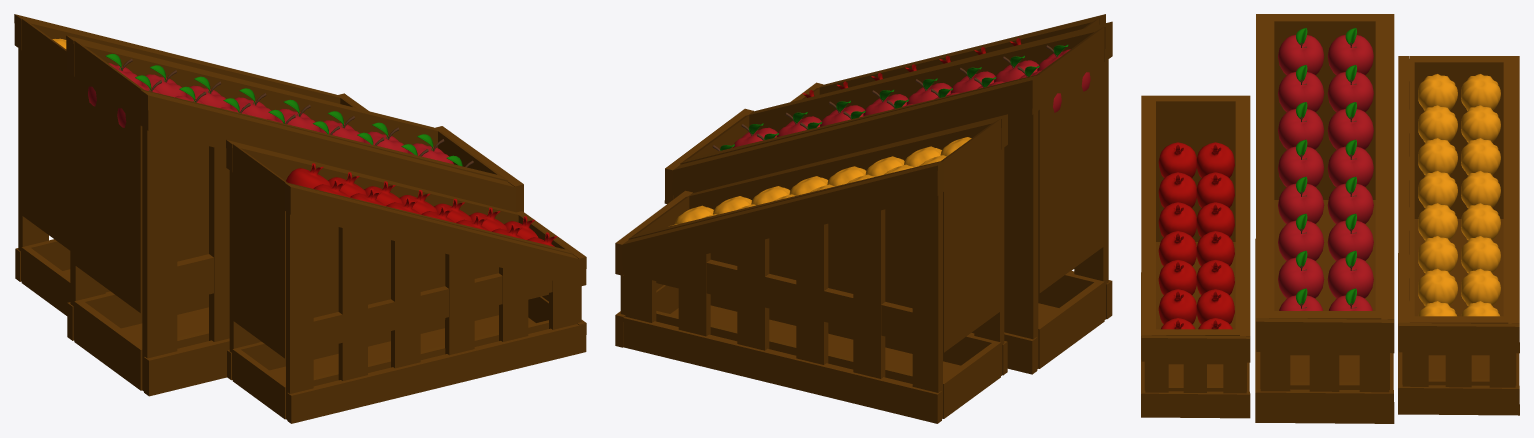
The model's file is Street stalls.fbx.
3 views of the same model, side by side, from view 1: azimuth 30°, elevation 25°; view 2: azimuth 150°, elevation 25°; view 3: azimuth 270°, elevation 25° (orthographic). The views are drawn at different scales.
Parts seen in each view (by area): view 1: Cube.002, Cube.001, Cube, Apple, Cube.003; view 2: Cube, Cube.001, Apple, Sphere, Cube.002; view 3: Cube.001, Cube, Cube.002, Apple, Sphere, Cube.003.
Part boxes in pixels (x1,y1,x2,y2): Cube.002: [226, 140, 586, 423]; Cube.001: [66, 35, 523, 396]; Cube: [14, 14, 368, 315]; Apple: [88, 53, 473, 167]; Cube.003: [286, 163, 557, 246]; Cube: [615, 114, 1007, 423]; Cube.001: [664, 21, 1112, 374]; Apple: [712, 44, 1090, 150]; Sphere: [669, 137, 971, 226]; Cube.002: [791, 14, 1105, 270]; Cube.001: [1255, 14, 1394, 423]; Cube: [1398, 56, 1519, 415]; Cube.002: [1141, 95, 1250, 418]; Apple: [1278, 28, 1373, 310]; Sphere: [1418, 74, 1500, 316]; Cube.003: [1158, 142, 1234, 329].
Bounding box in the file's own units: 746 × 574 × 769.
